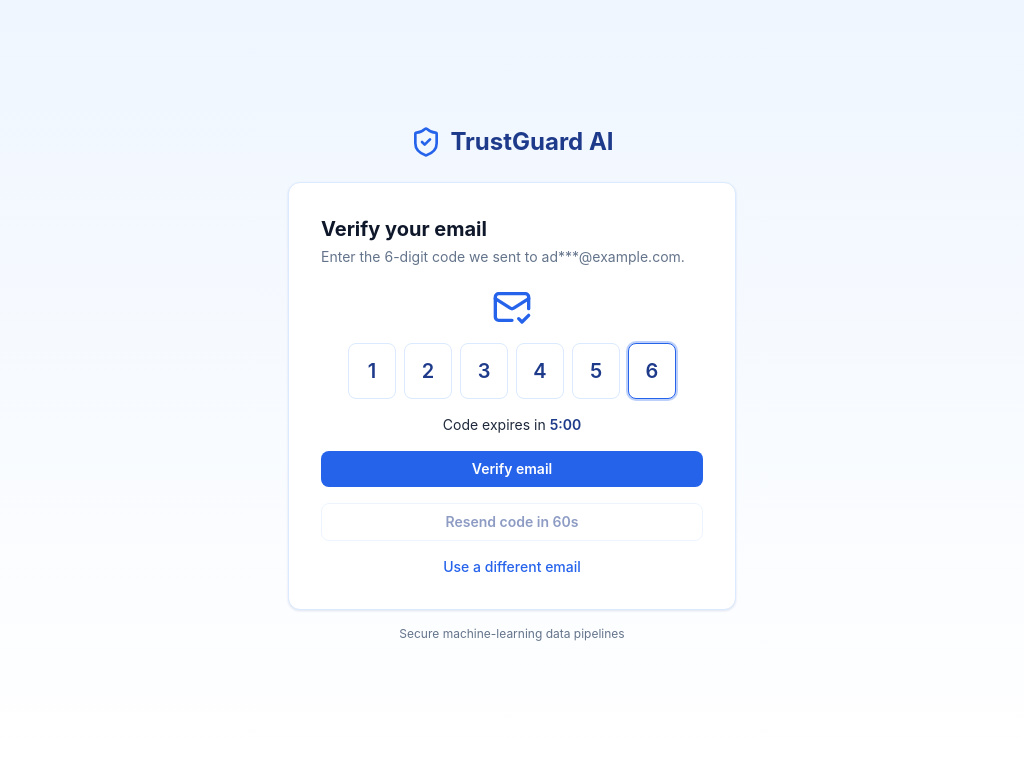
Test case: OTP verification › supports paste, verifies on the backend and redirects to login
Check: the field named "Digit 6" holds "6", box [628, 343, 676, 399]
Click the button "Verify email" at (512, 469), box [321, 451, 703, 487]
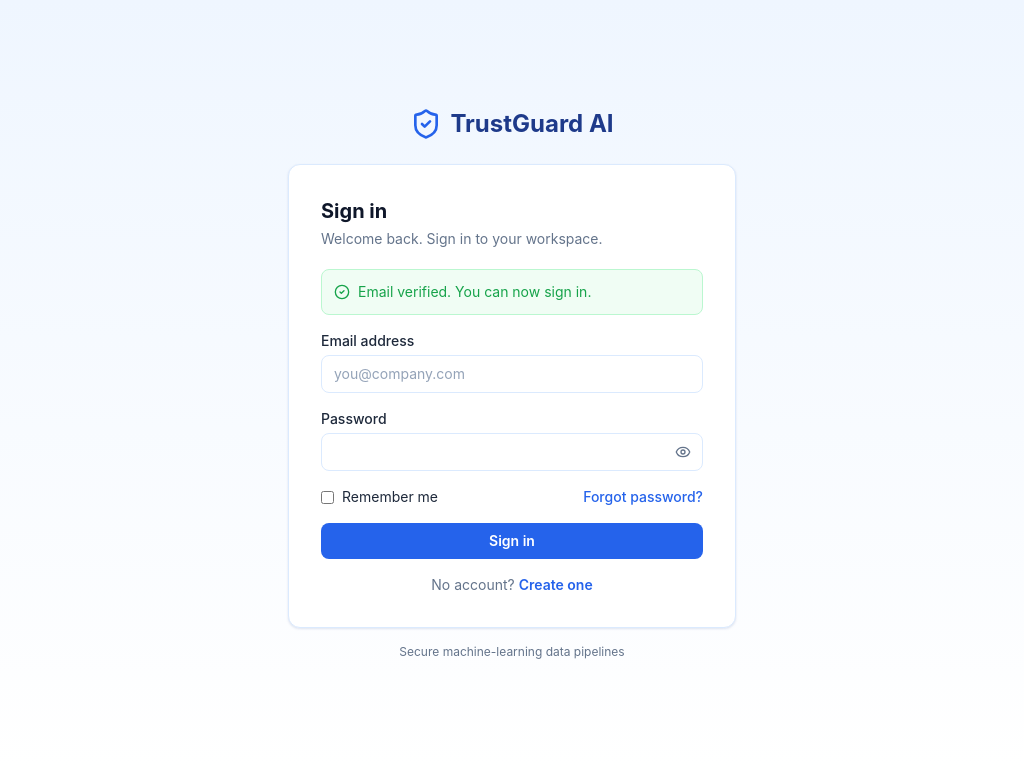
Check: the heading "Sign in" is shown, box [321, 199, 387, 223]
Check: the text "Email verified. You can now sign in." is shown, box [358, 282, 591, 302]
